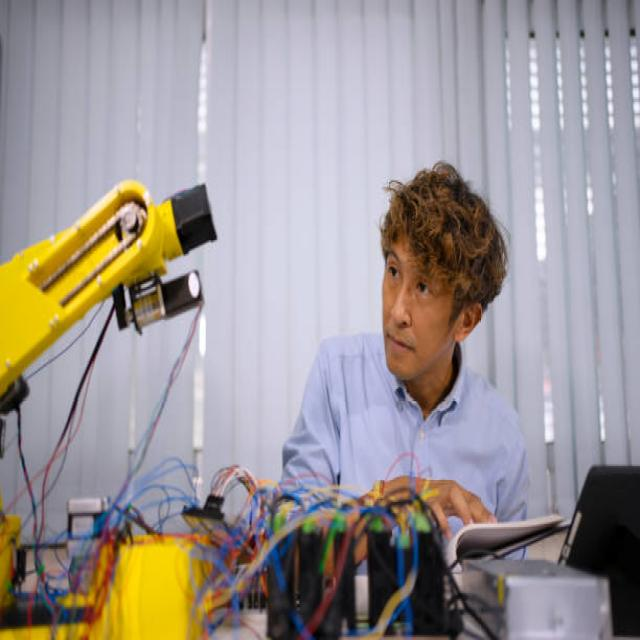Robotic-arm: (0, 173, 224, 406)
